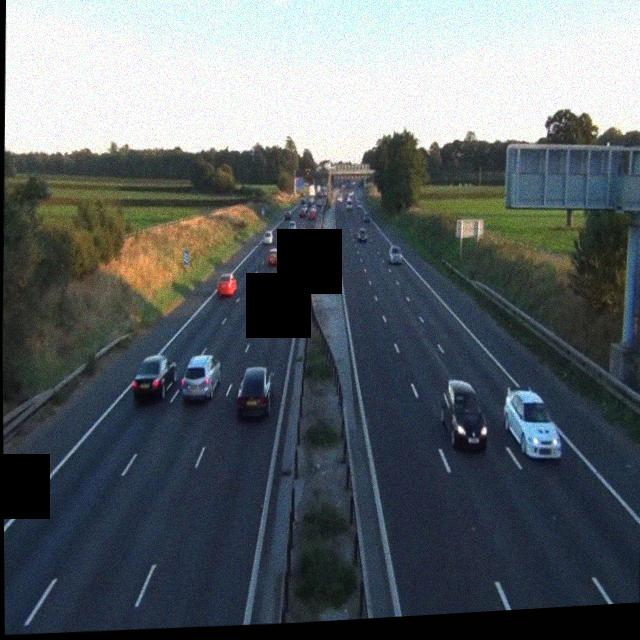car: (503, 386, 562, 462), (439, 377, 487, 452), (131, 354, 177, 405), (181, 352, 222, 402), (238, 364, 273, 420), (217, 272, 237, 297), (388, 243, 403, 264), (287, 262, 300, 284), (267, 246, 280, 264), (356, 224, 366, 240), (261, 228, 271, 243), (298, 226, 308, 240), (287, 221, 295, 235), (308, 208, 316, 221), (283, 208, 291, 220)
